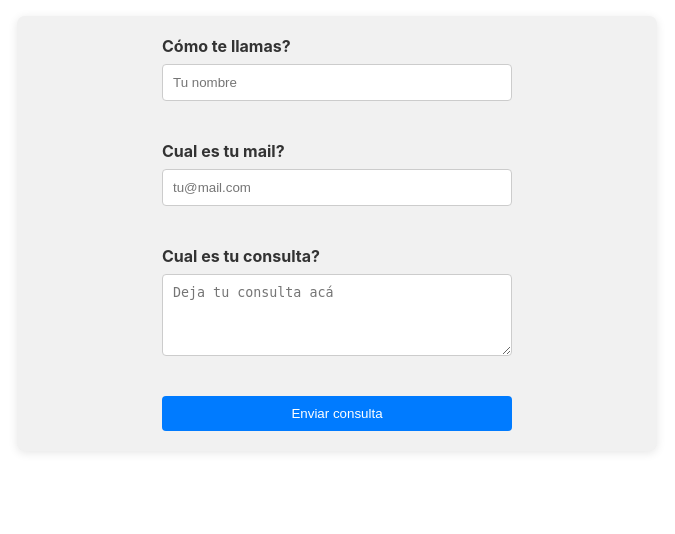
Form Component › shows error message when email is invalid
Type "Alex" into the field with placeholder "Tu nombre".
click(337, 82); type("Alex")  # box [162,64,512,101]
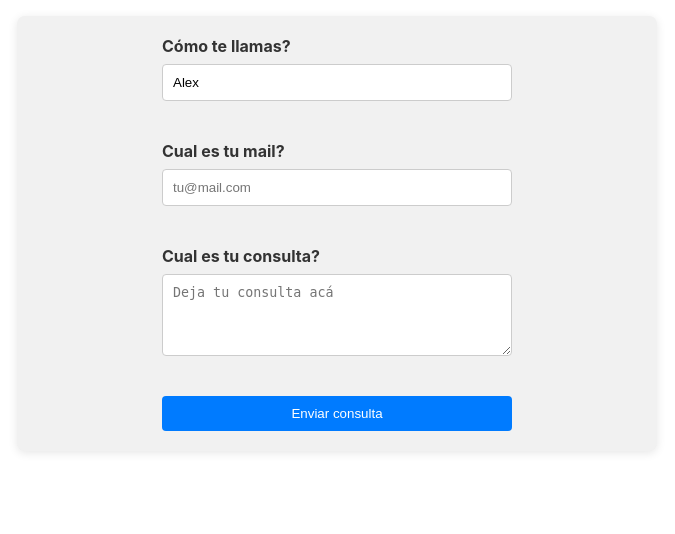
Type "alexinarroba.com" into the field with placeholder "tu@mail.com".
click(337, 188); type("alexinarroba.com")  # box [162,169,512,206]
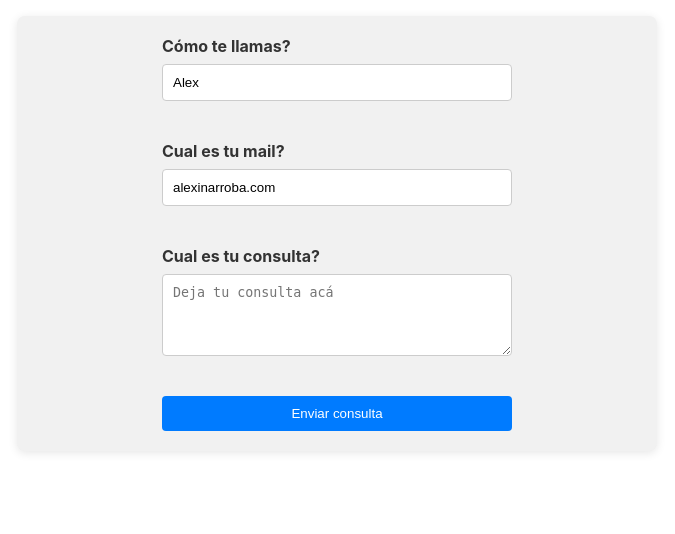
Click the button "Enviar consulta".
click(337, 414)  # box [162,396,512,431]
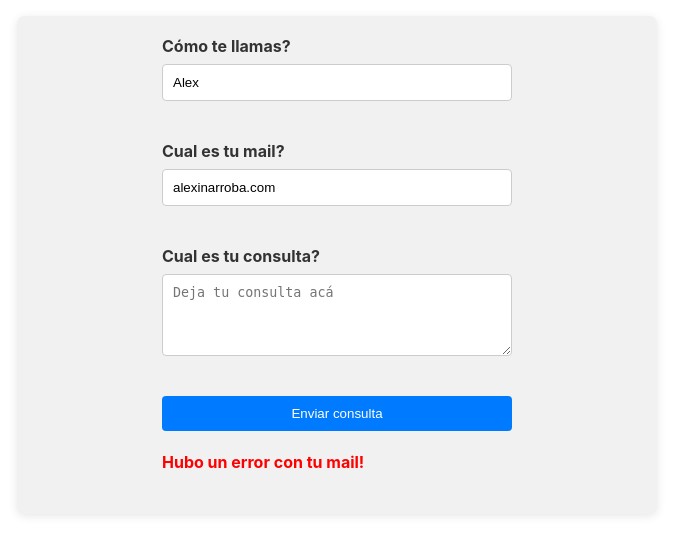
Now the heading "Hubo un error con tu mail!" is shown, box [162,452,364,472]
